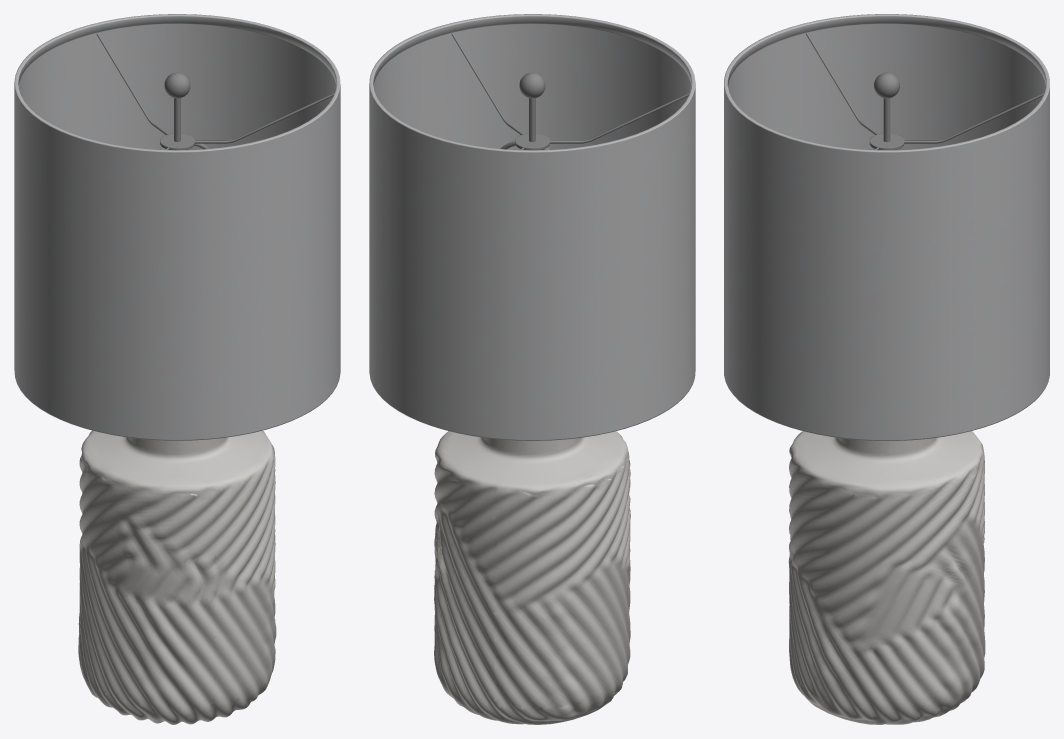
The model's file is abo-B07MF1TK99.glb.
The picture shows the model from 3 angles, left to right: view 1: azimuth 30°, elevation 25°; view 2: azimuth 150°, elevation 25°; view 3: azimuth 270°, elevation 25°; orthographic projection.
Size of the model in its own units: 0.24 by 0.511 by 0.24.
1 material, 1 textured.
